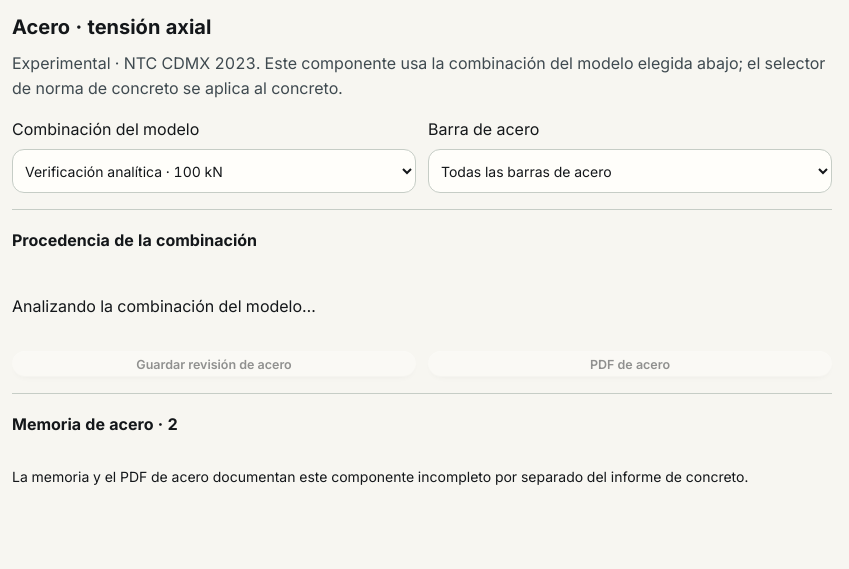
Test: una referencia guardada ausente bloquea el PDF y nunca cambia a todas las barras
Click the heading "Memoria de acero · 2" at [95, 424], box [12,414,178,434]
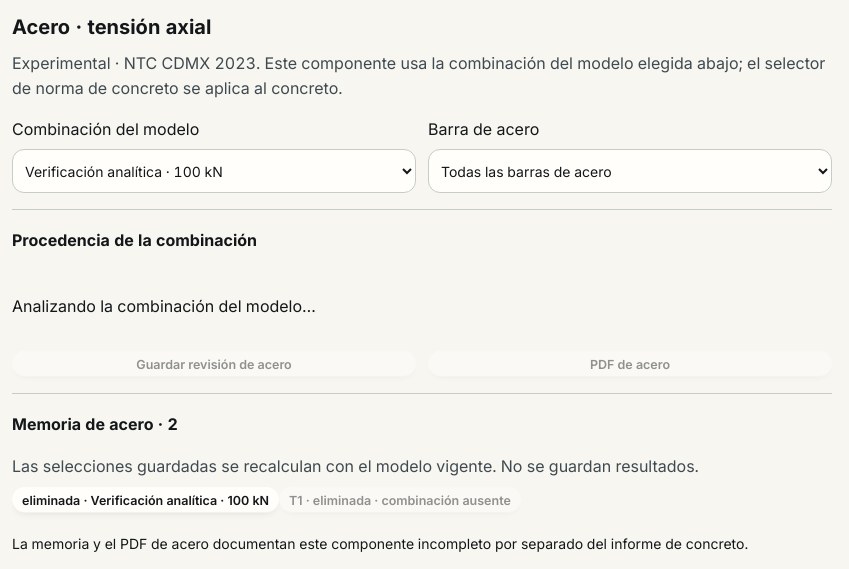
Check: the button "T1 · eliminada · combinación ausente" is disabled, box [279,488,521,514]
Click the button "eliminada · Verificación analítica · 100 kN" at [146, 500], box [12,488,279,514]
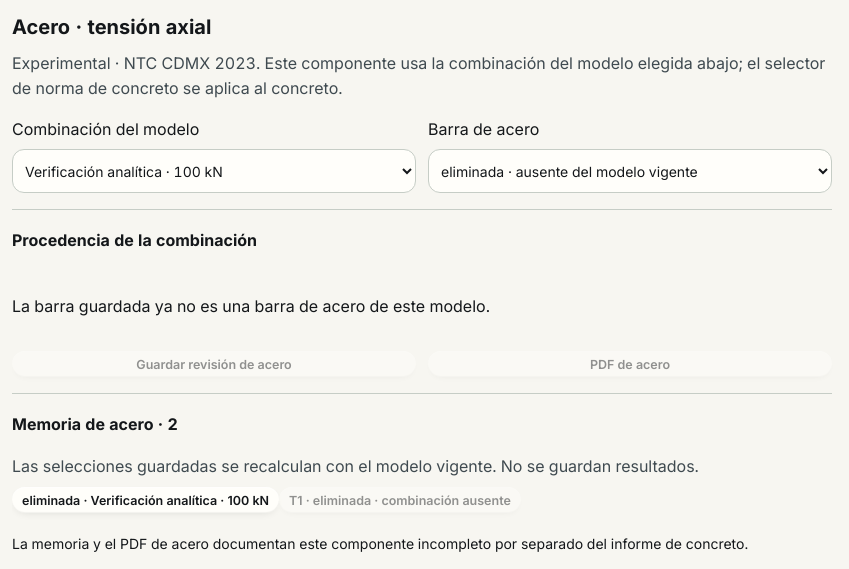
Check: the button "PDF de acero" is disabled, box [428,351,832,377]
Check: the message shows "ya no es", box [12,296,490,316]
Check: the dropdown labelled "Barra de acero" shows "eliminada · ausente del modelo vigente", box [428,149,832,193]
